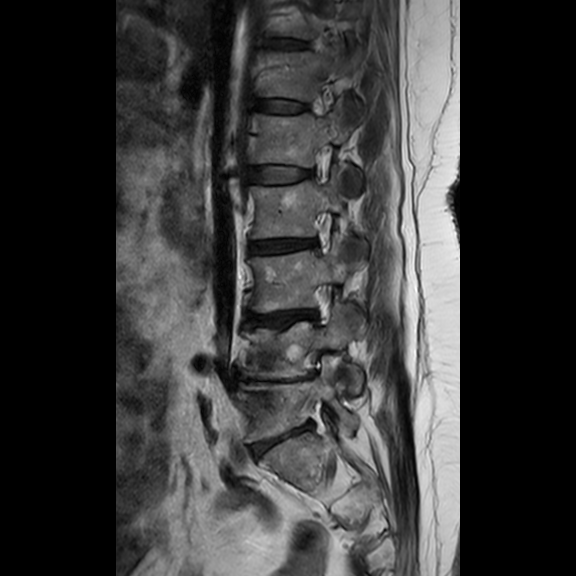RFS0: (298, 274, 341, 335), (298, 203, 341, 260), (302, 136, 340, 192)
RFS2: (294, 339, 333, 391)
